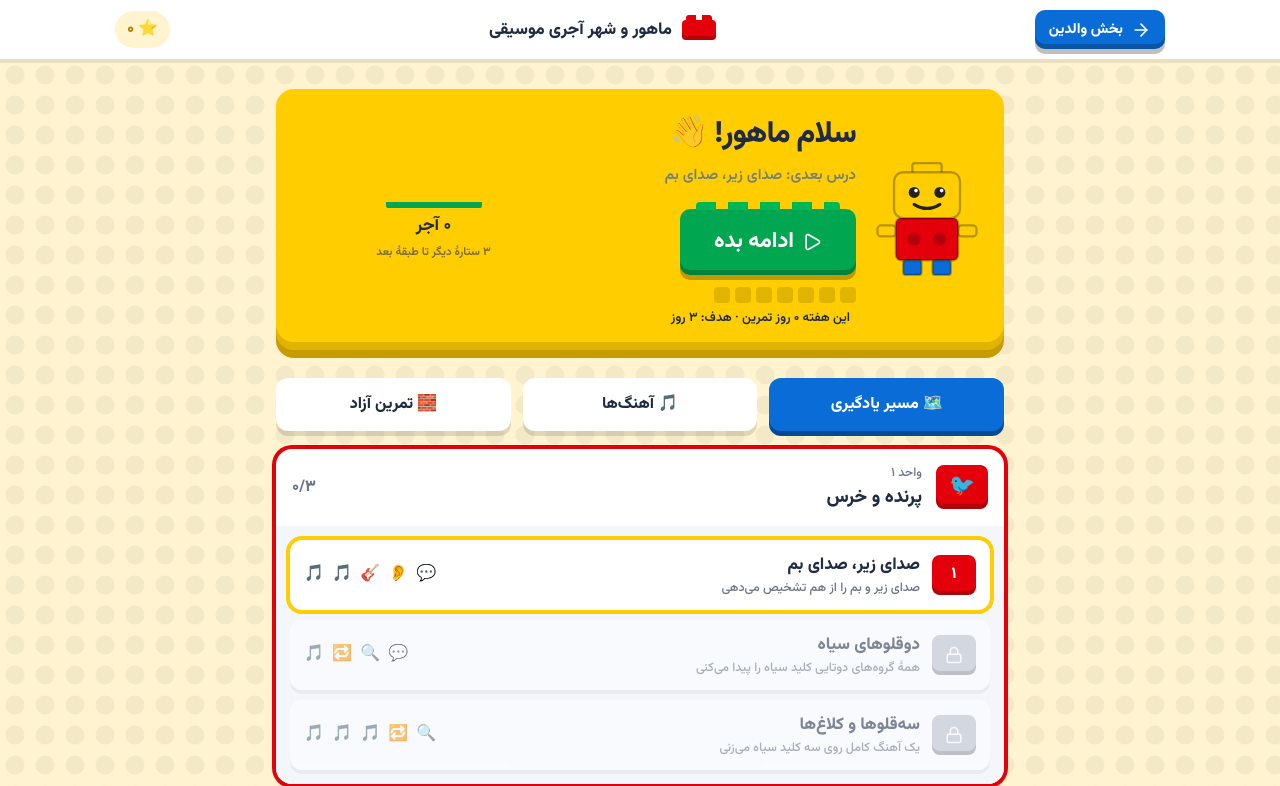
Test: the first ever stage stops to learn the child's piano before asking them to play
Click the tab "🧱 تمرین آزاد" at coordinates (393, 404), box x1=276 y1=378 x2=511 y2=431
(page scrolled)
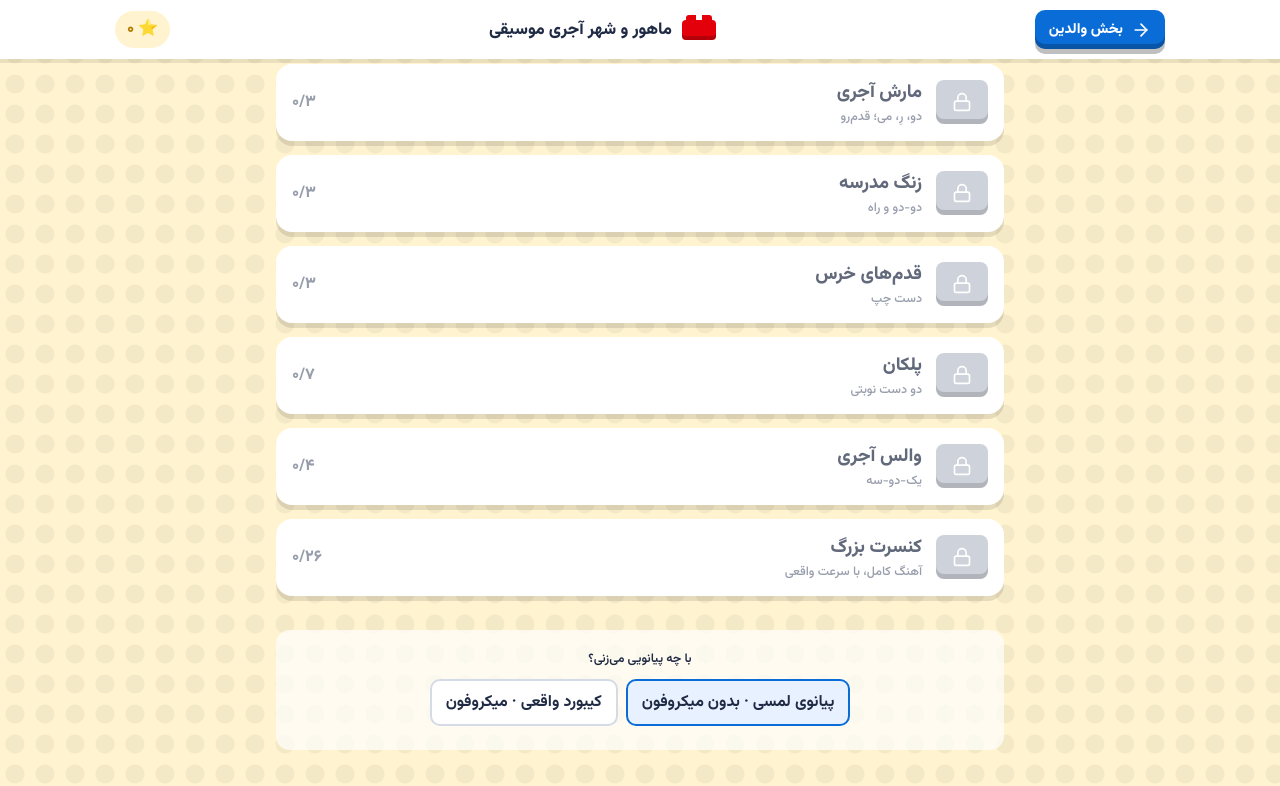
Click the button "کیبورد واقعی · میکروفون" at coordinates (524, 702), box x1=430 y1=679 x2=618 y2=726
(page scrolled)
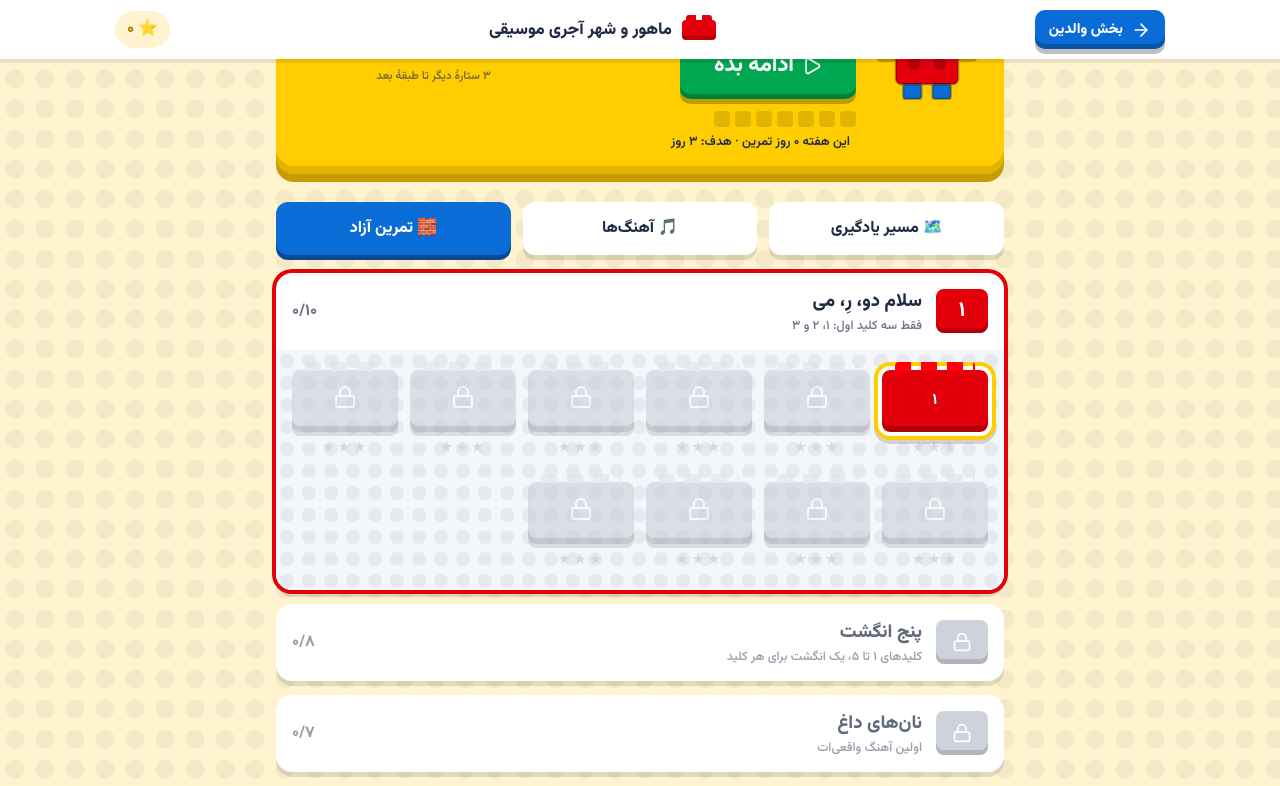
Click the button named "مرحله 1: سلام دو، رِ، می ۱" at coordinates (935, 401), box x1=882 y1=370 x2=988 y2=432
(page scrolled)
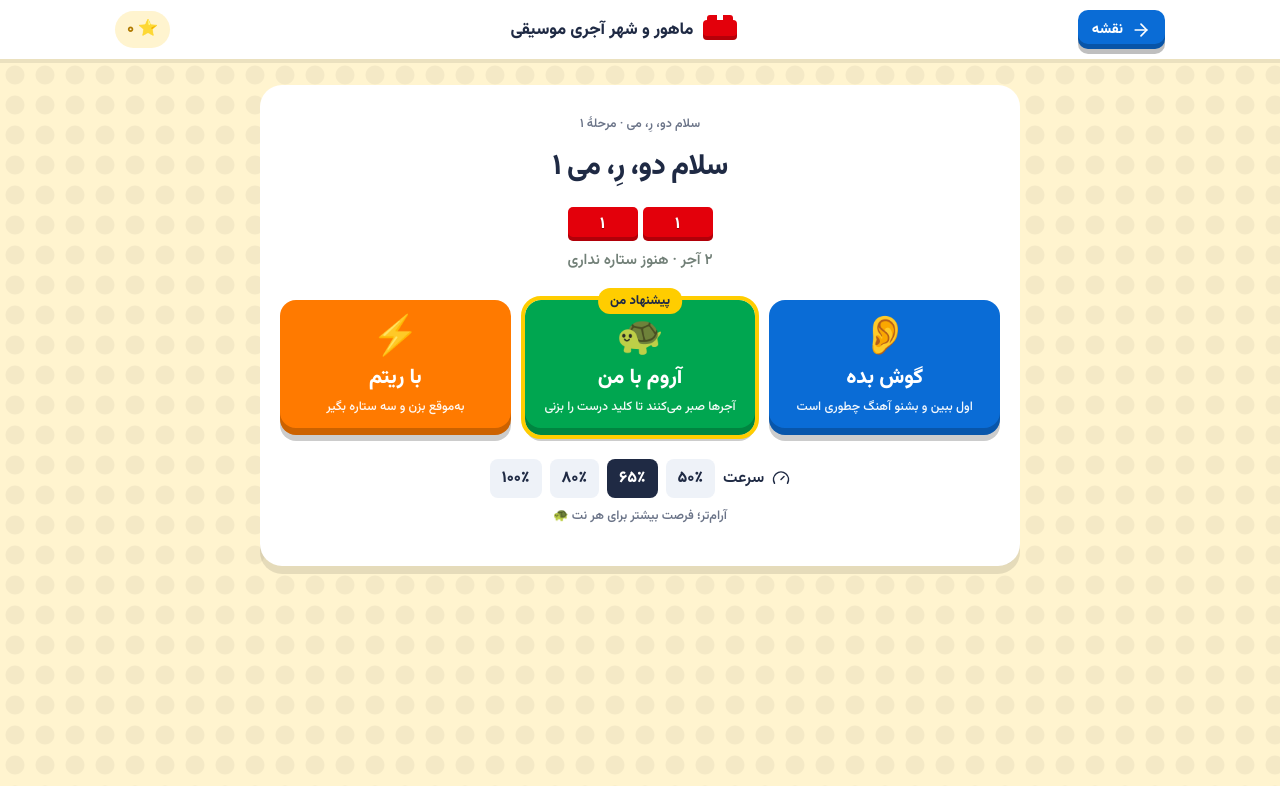
Click the button "⚡ با ریتم به‌موقع بزن و سه ستاره بگیر" at coordinates (395, 367), box x1=280 y1=300 x2=511 y2=435
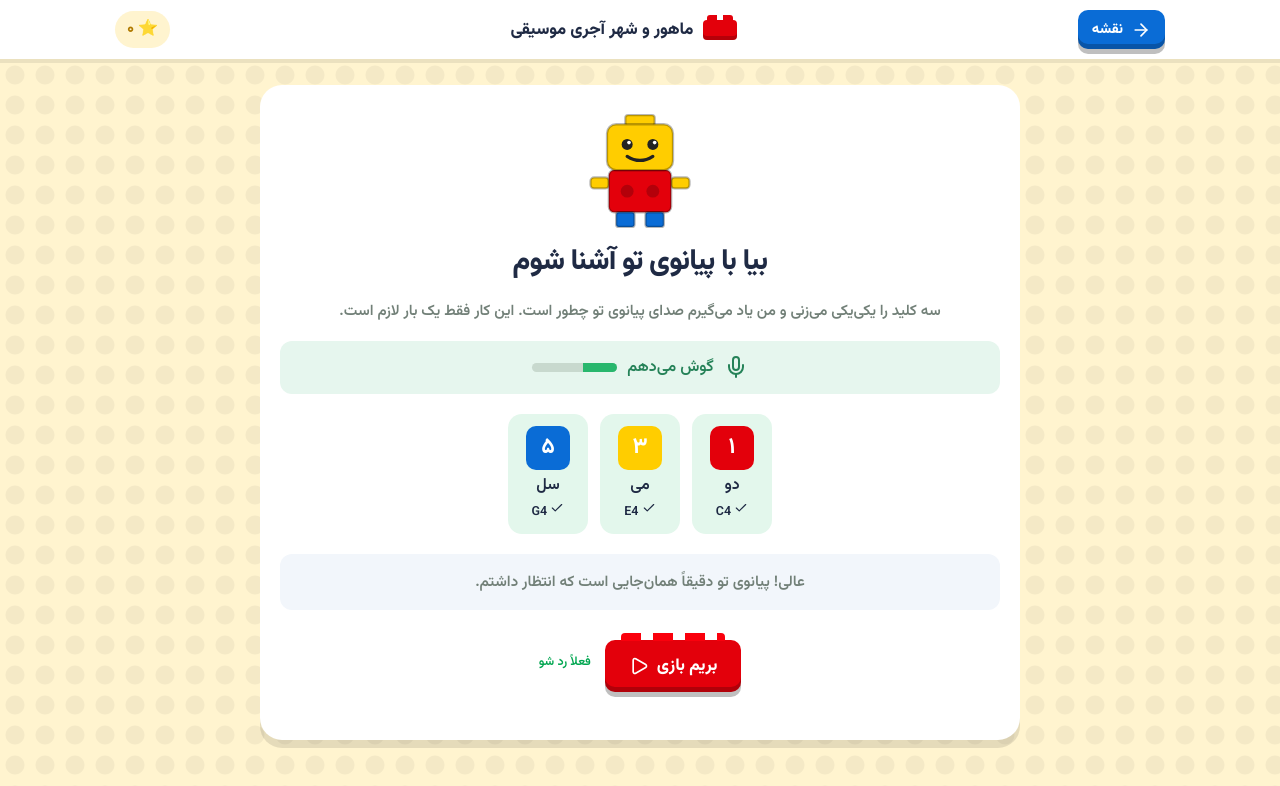
Result: the heading "بیا با پیانوی تو آشنا شوم" is shown at x1=513 y1=239 x2=767 y2=284
Result: the message shows "عالی" at x1=475 y1=570 x2=805 y2=594
